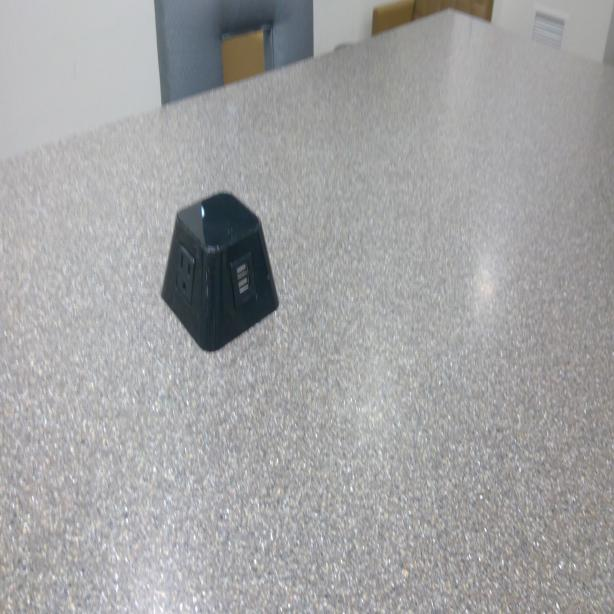typeb: (174, 251, 196, 302)
